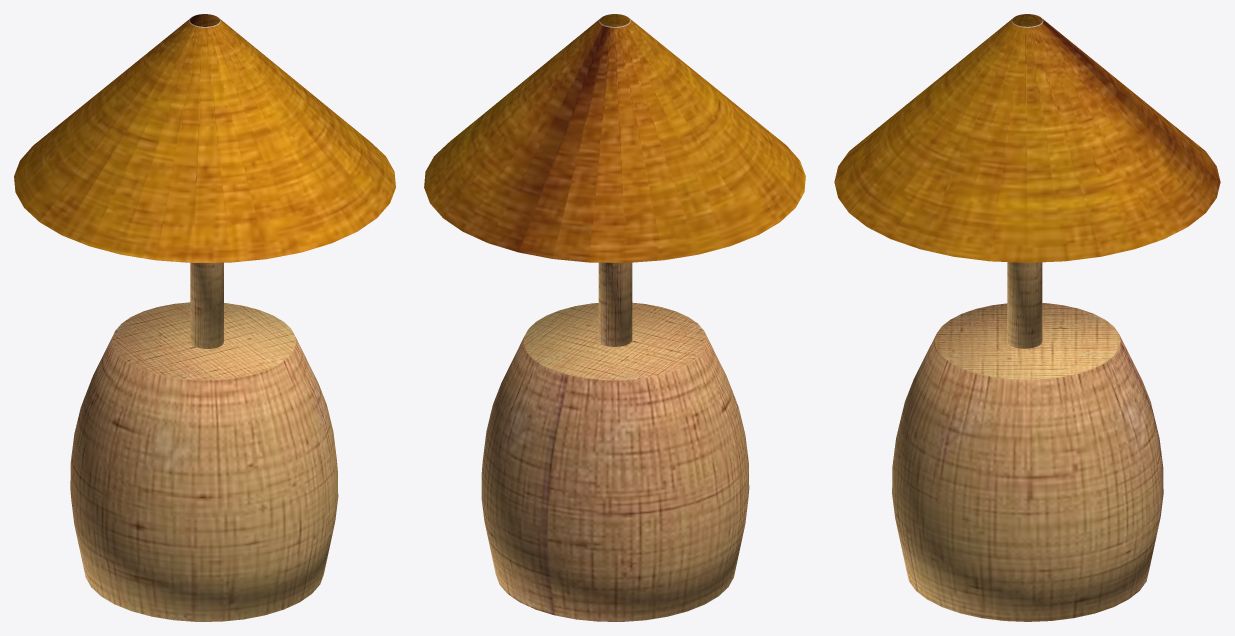
File: table_lamp.glb
3 views of the same model, side by side, from view 1: azimuth 30°, elevation 25°; view 2: azimuth 150°, elevation 25°; view 3: azimuth 270°, elevation 25° (orthographic).
Parts seen in each view (by area): view 1: Sphere.001; view 2: Sphere.001; view 3: Sphere.001.
Boxes of the visible parts, x1,y1,x2,y2 form: Sphere.001: (14,14,395,621); Sphere.001: (424,14,805,621); Sphere.001: (834,14,1220,621).
Bounding box in the file's own units: 1.81 × 2.88 × 1.83.
4 materials, 3 textured.
